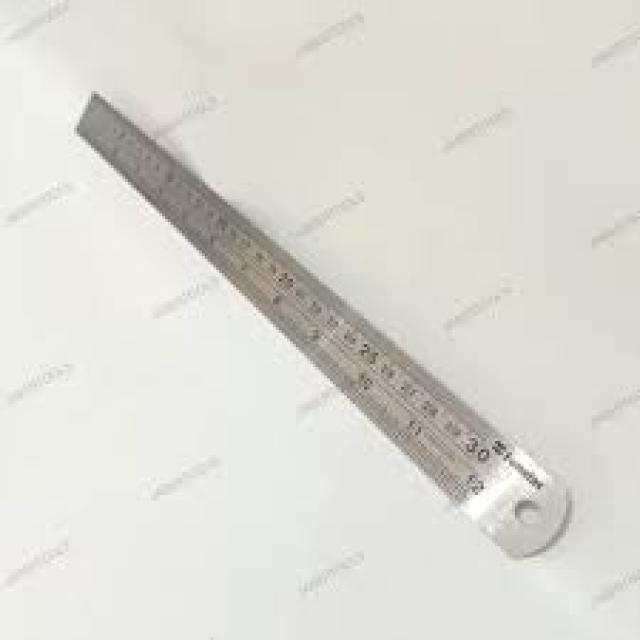Ruler: (80, 94, 569, 552)
